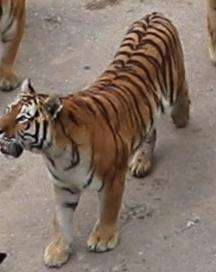tiger: (0, 13, 189, 266)
